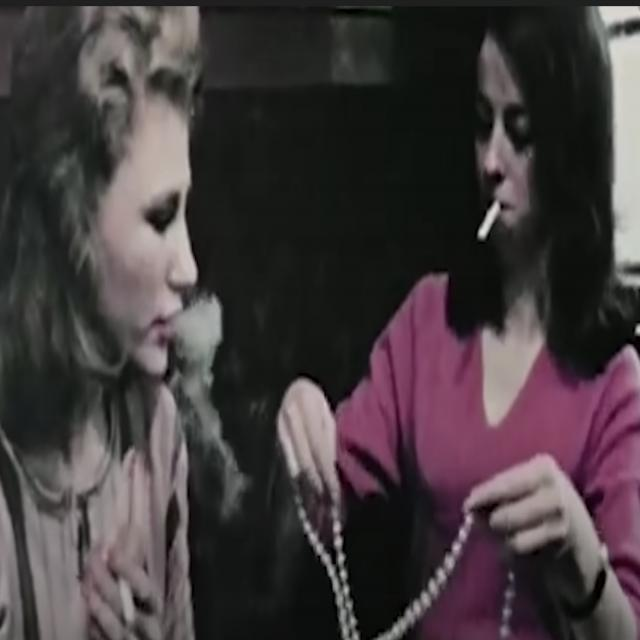smoke: (466, 194, 514, 258), (114, 564, 149, 630)
